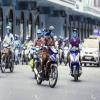motorcycles: (38, 48, 58, 88), (68, 46, 82, 82), (0, 43, 15, 72), (22, 45, 30, 66)
